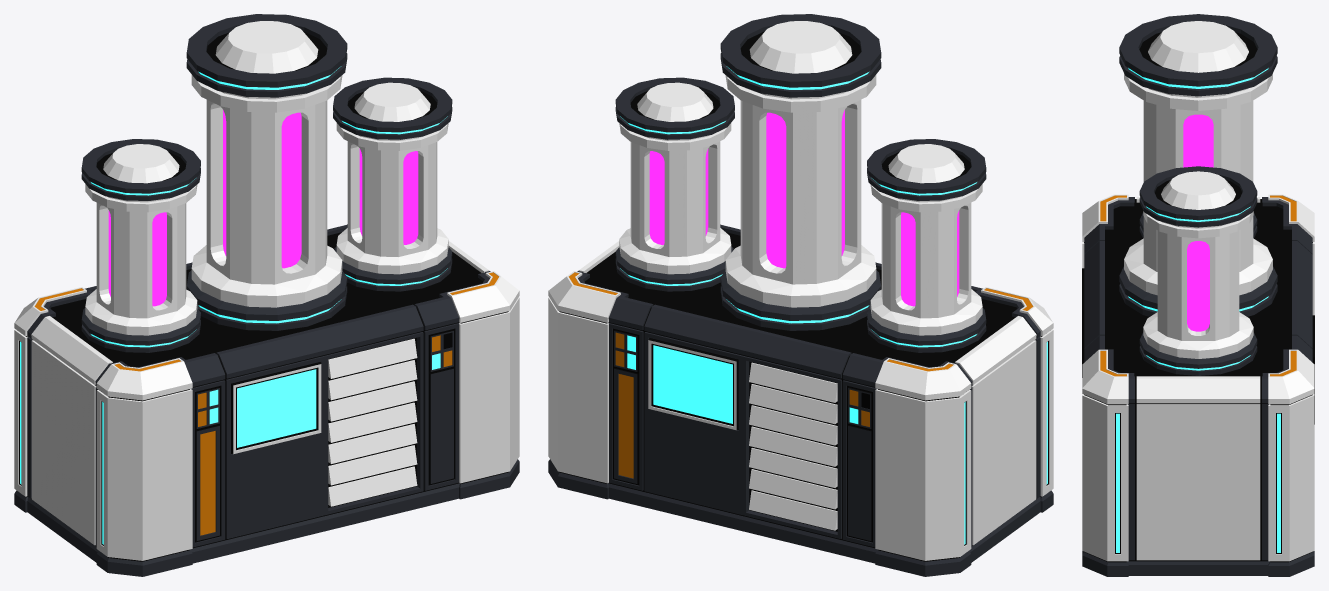
Rendered from SM_Fusion_T1.fbx.
3 views of the same model, side by side, from view 1: azimuth 30°, elevation 25°; view 2: azimuth 150°, elevation 25°; view 3: azimuth 270°, elevation 25° (orthographic). The views are drawn at different scales.
Parts seen in each view (by area): view 1: SM_Fusion_T1; view 2: SM_Fusion_T1; view 3: SM_Fusion_T1.
Boxes of the visible parts, x1,y1,x2,y2 form: SM_Fusion_T1: (14, 14, 519, 576); SM_Fusion_T1: (548, 14, 1053, 576); SM_Fusion_T1: (1082, 14, 1314, 576).
Bounding box in the file's own units: 200 × 209 × 100.
